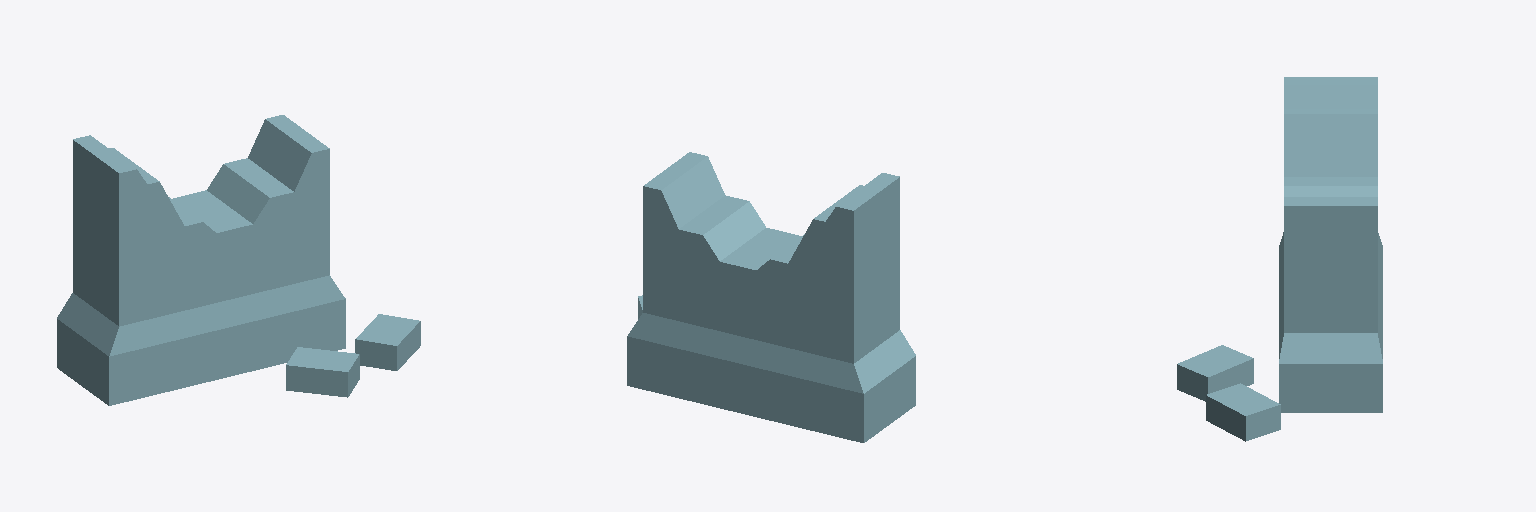
File: gravestoneBroken.obj
The picture shows the model from 3 angles: view 1: azimuth 30°, elevation 25°; view 2: azimuth 150°, elevation 25°; view 3: azimuth 270°, elevation 25°; orthographic projection.
Visible parts, largest first — view 1: gravestoneBroken; view 2: gravestoneBroken; view 3: gravestoneBroken.
Boxes of the visible parts, x1=… form: gravestoneBroken: x1=57, y1=115, x2=420, y2=405; gravestoneBroken: x1=627, y1=152, x2=915, y2=442; gravestoneBroken: x1=1177, y1=77, x2=1382, y2=441.
Bounding box in the file's own units: 0.4864 × 0.3581 × 0.2949.